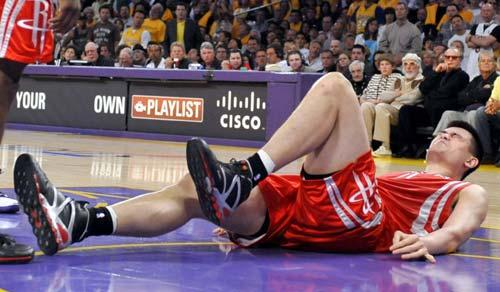10+: (1, 1, 500, 271)
down: (9, 68, 491, 269)
